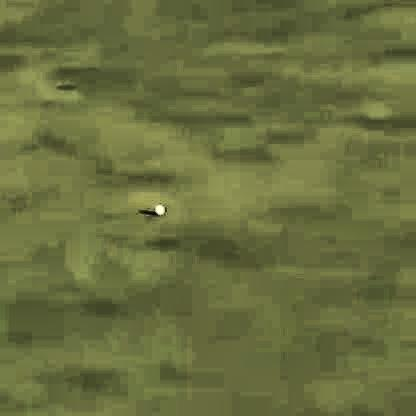golfball: (151, 198, 162, 211)
